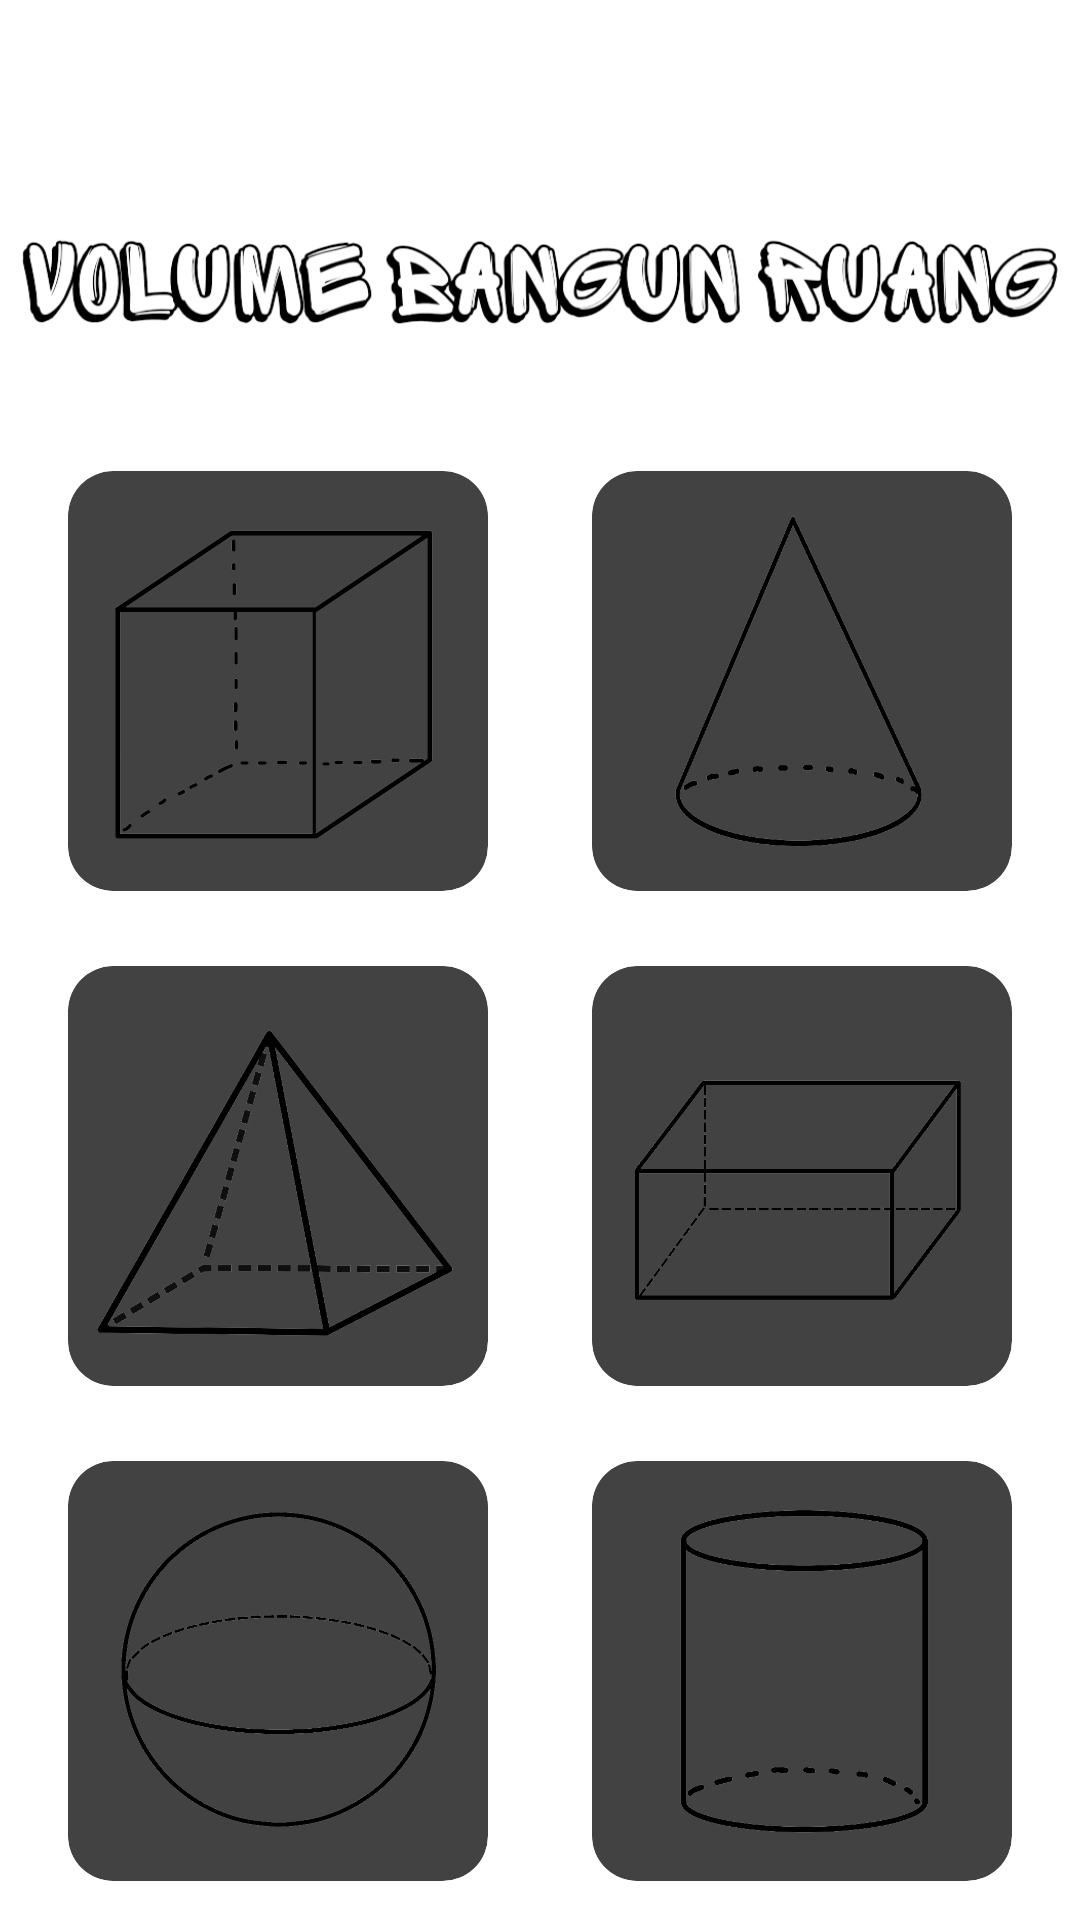

Point at icon controls on the screen. Image size 1080 x 1920, points as [x,y].
balok: [798,1190]
bola: [278,1669]
krucut: [798,681]
kubus: [273,684]
limas: [275,1183]
tabung: [804,1671]
